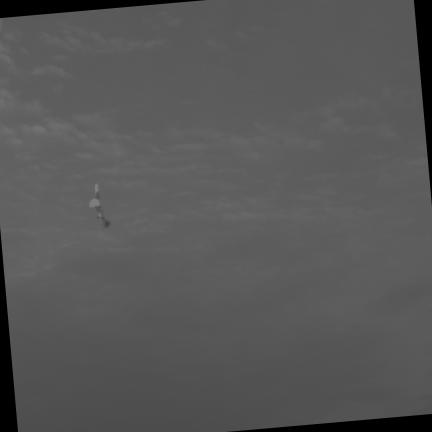Shahed: (89, 184, 110, 228)
